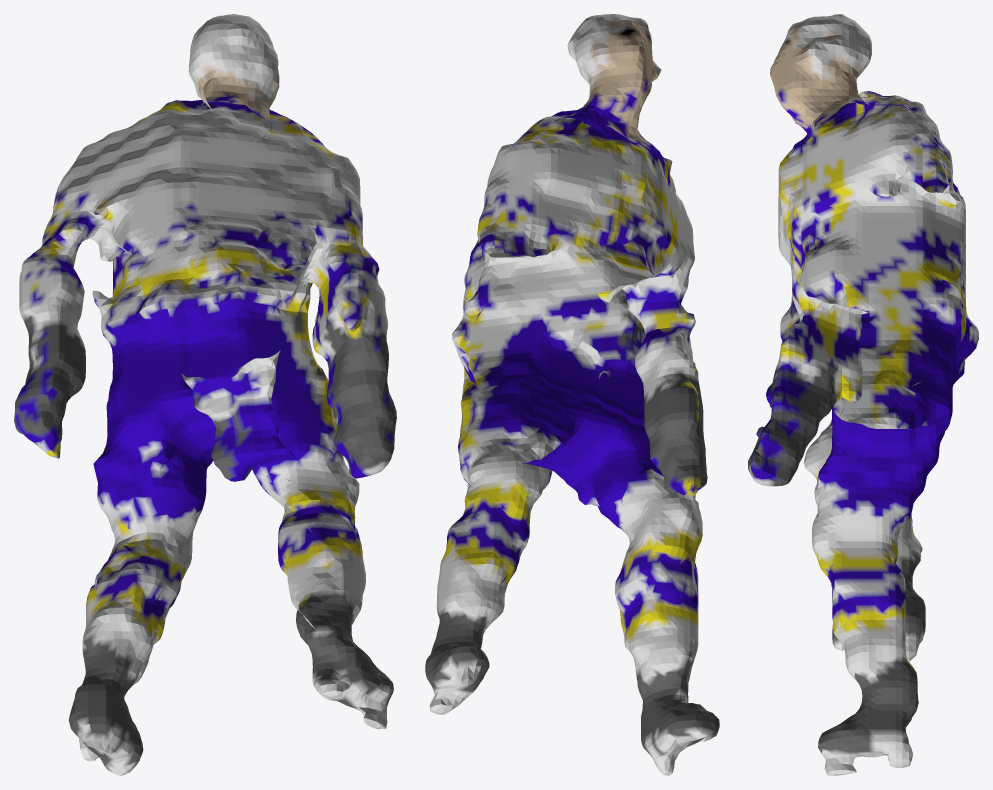
Rendered from nhl96pc_buffalo_player_mesh.glb.
3 views of the same model, side by side, from view 1: azimuth 30°, elevation 25°; view 2: azimuth 150°, elevation 25°; view 3: azimuth 270°, elevation 25° (orthographic). The views are drawn at different scales.
Visible parts, largest first — view 1: geometry_0; view 2: geometry_0; view 3: geometry_0.
Boxes of the visible parts, box(x1,y1,x2,y2) form: geometry_0: box(14, 14, 396, 775); geometry_0: box(425, 14, 719, 775); geometry_0: box(748, 14, 978, 775).
Size of the model in its own units: 25.66 by 56.8 by 17.23.
